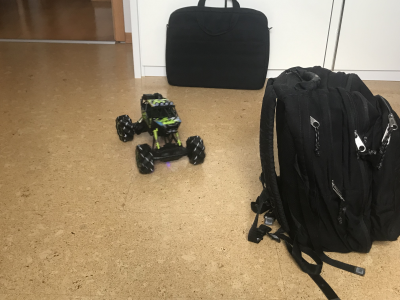remote control car: (113, 89, 206, 175)
